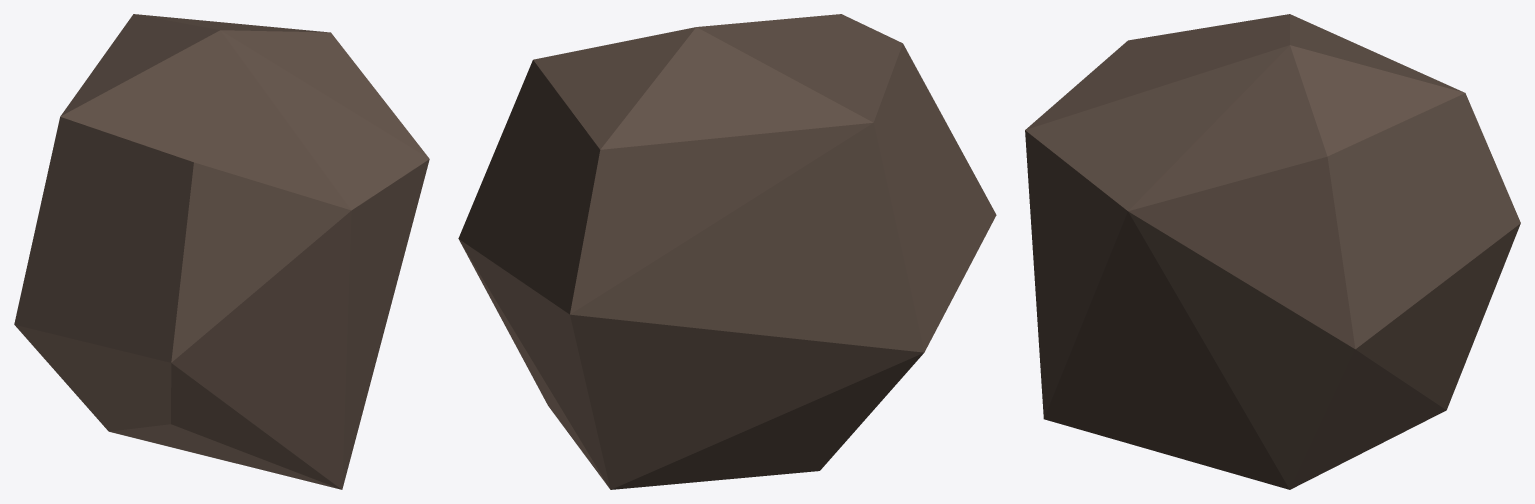
Rendered from Rock-A12.fbx.
The picture shows the model from 3 angles, left to right: view 1: azimuth 30°, elevation 25°; view 2: azimuth 150°, elevation 25°; view 3: azimuth 270°, elevation 25°; orthographic projection. The views are drawn at different scales.
Visible parts, largest first — view 1: Rock-A12; view 2: Rock-A12; view 3: Rock-A12.
Part boxes in pixels (x1,y1,x2,y2): Rock-A12: (14,14,429,489); Rock-A12: (458,14,996,489); Rock-A12: (1025,14,1520,489).
Bounding box in the file's own units: 52.8 × 48.66 × 57.74.
